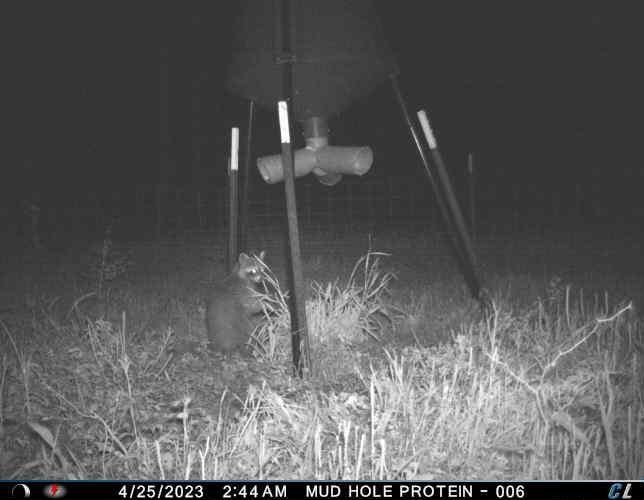Raccoon: (199, 249, 275, 363)
